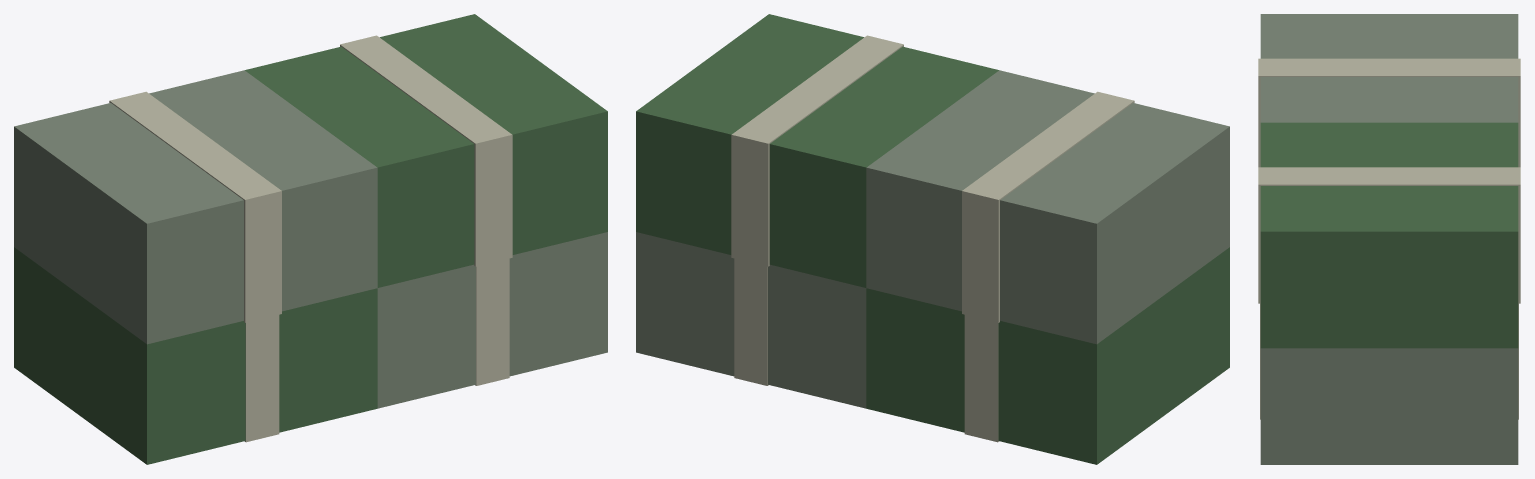
The model's file is cash_stack.glb.
The picture shows the model from 3 angles, left to right: view 1: azimuth 30°, elevation 25°; view 2: azimuth 150°, elevation 25°; view 3: azimuth 270°, elevation 25°; orthographic projection. The views are drawn at different scales.
Visible parts, largest first — view 1: cash_stack; view 2: cash_stack; view 3: cash_stack.
Boxes of the visible parts, left/top/right/bottom form: cash_stack: left=14, top=14, right=607, bottom=464; cash_stack: left=636, top=14, right=1229, bottom=464; cash_stack: left=1258, top=14, right=1520, bottom=464.
Bounding box in the file's own units: 0.4 × 0.202 × 0.204.
